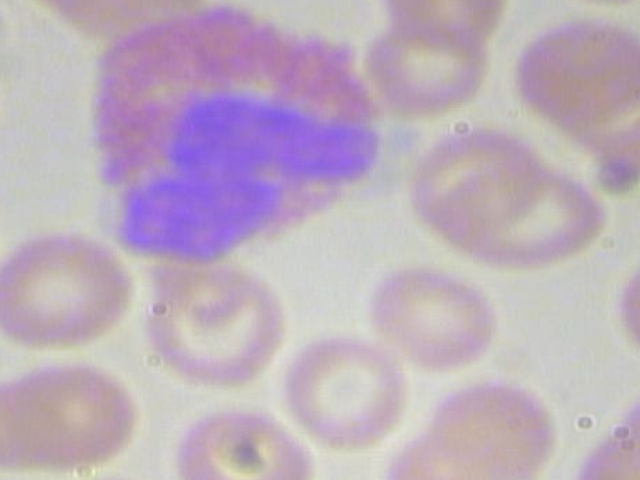RBC: (133, 252, 290, 396), (391, 119, 557, 238), (0, 227, 151, 348), (278, 326, 410, 448), (370, 255, 501, 377), (509, 8, 640, 127), (360, 0, 526, 51), (587, 242, 640, 361), (0, 165, 27, 286), (0, 48, 7, 170)
WBC: (79, 0, 403, 265)
